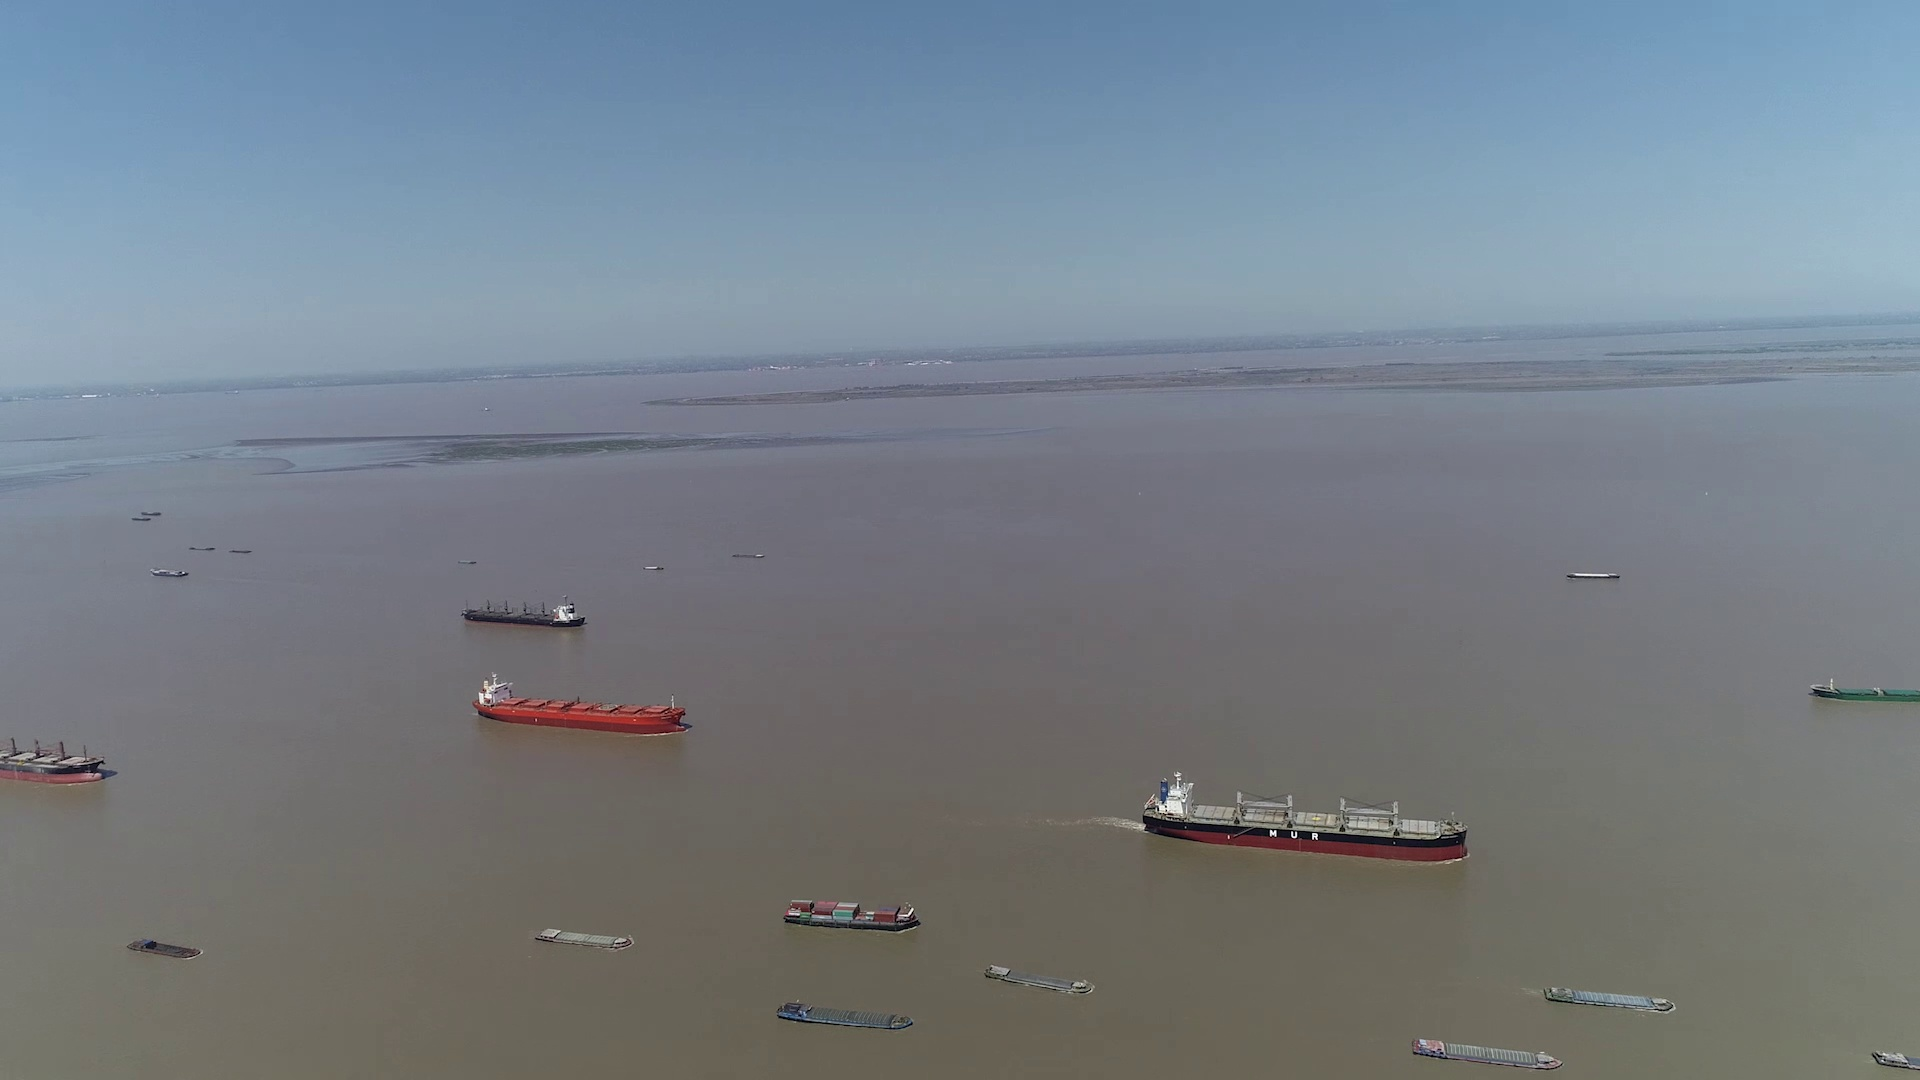ship: (1143, 773, 1470, 862), (476, 673, 687, 736), (1, 724, 112, 785), (1411, 1038, 1559, 1072), (781, 897, 922, 932), (775, 1000, 918, 1031), (463, 597, 587, 628), (982, 964, 1095, 996), (1545, 985, 1676, 1011), (1809, 679, 1920, 704), (534, 927, 632, 949), (127, 938, 202, 959), (1871, 1048, 1920, 1073), (1569, 570, 1622, 579), (152, 568, 190, 578)
